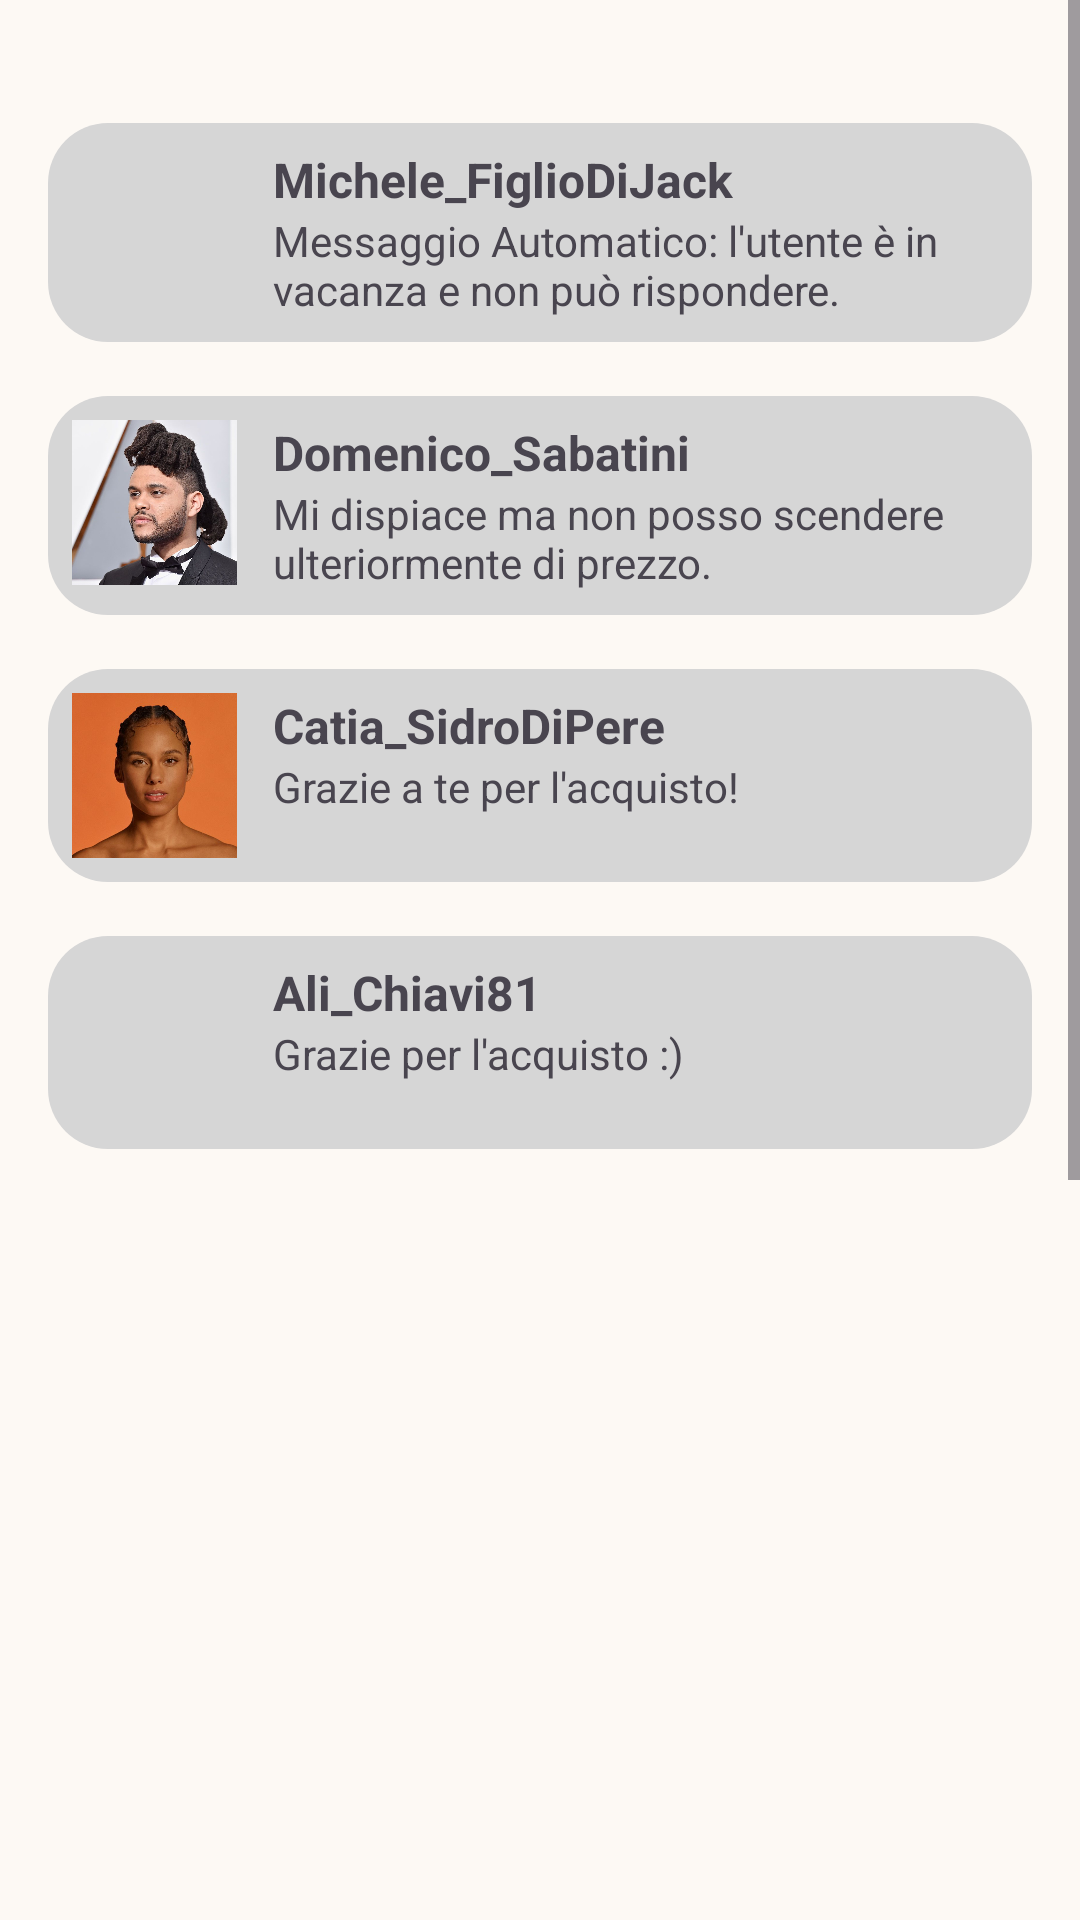

Icon click points for this 1080x1920 phone screenshot, format [x,y]:
user: [154,502], [154,775]
